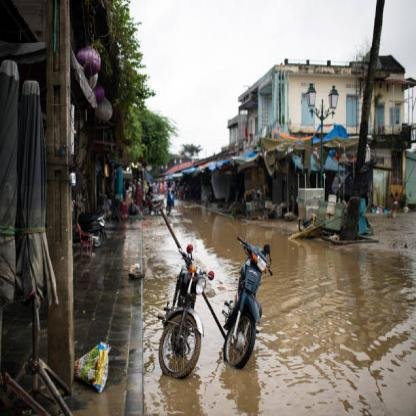Motorcycle: (223, 225, 274, 390), (160, 239, 213, 384)
